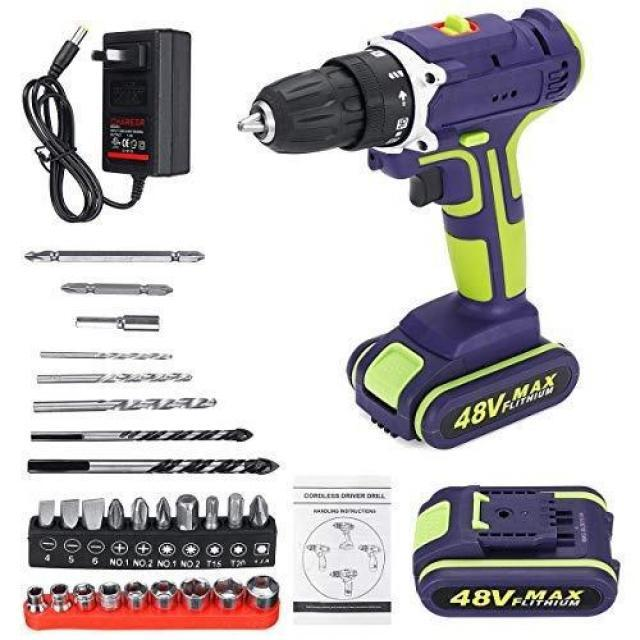drill: (236, 7, 586, 451), (413, 485, 621, 618)
